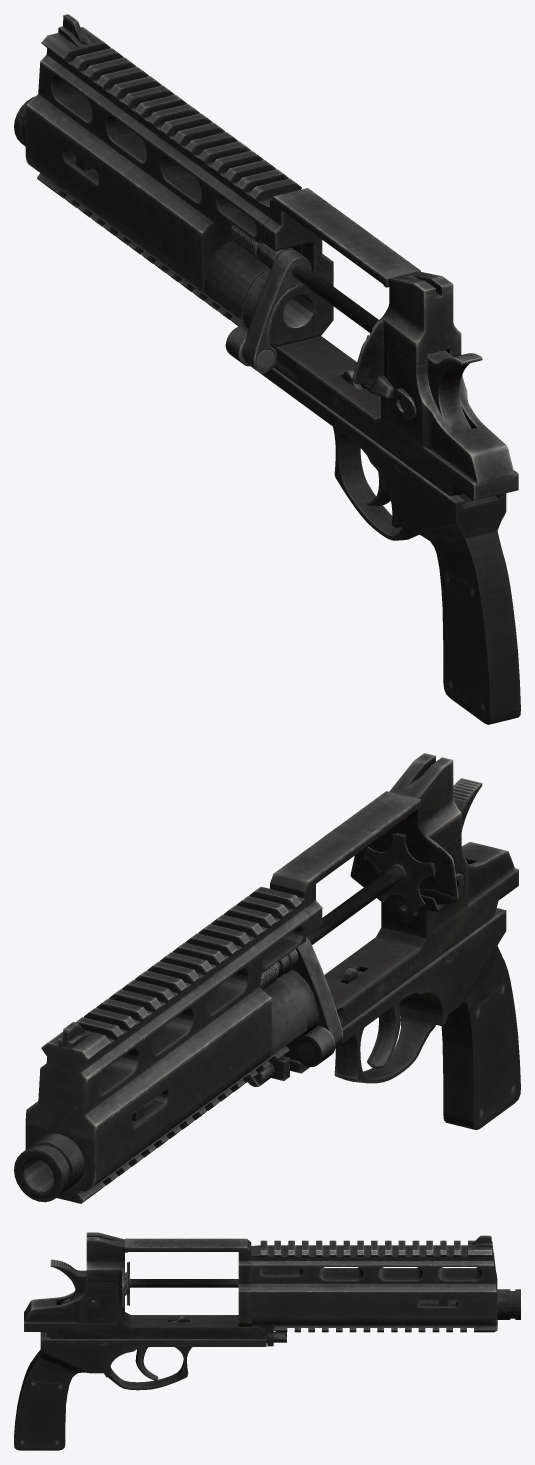
3 renders of one model, top to bottom at view 1: azimuth 30°, elevation 25°; view 2: azimuth 150°, elevation 25°; view 3: azimuth 270°, elevation 25°, orthographic. The views are drawn at different scales.
Visible parts, largest first — view 1: TW_633ec7c2a6918cb895019c6c_PZ_Import; view 2: TW_633ec7c2a6918cb895019c6c_PZ_Import; view 3: TW_633ec7c2a6918cb895019c6c_PZ_Import.
Part boxes in pixels (left/top/right/bottom): TW_633ec7c2a6918cb895019c6c_PZ_Import: left=14, top=14, right=520, bottom=724; TW_633ec7c2a6918cb895019c6c_PZ_Import: left=14, top=753, right=520, bottom=1203; TW_633ec7c2a6918cb895019c6c_PZ_Import: left=14, top=1232, right=520, bottom=1450.
Size of the model in its own units: 0.0277 by 0.2122 by 0.0971.
Materials: 1 (1 with a texture image).
